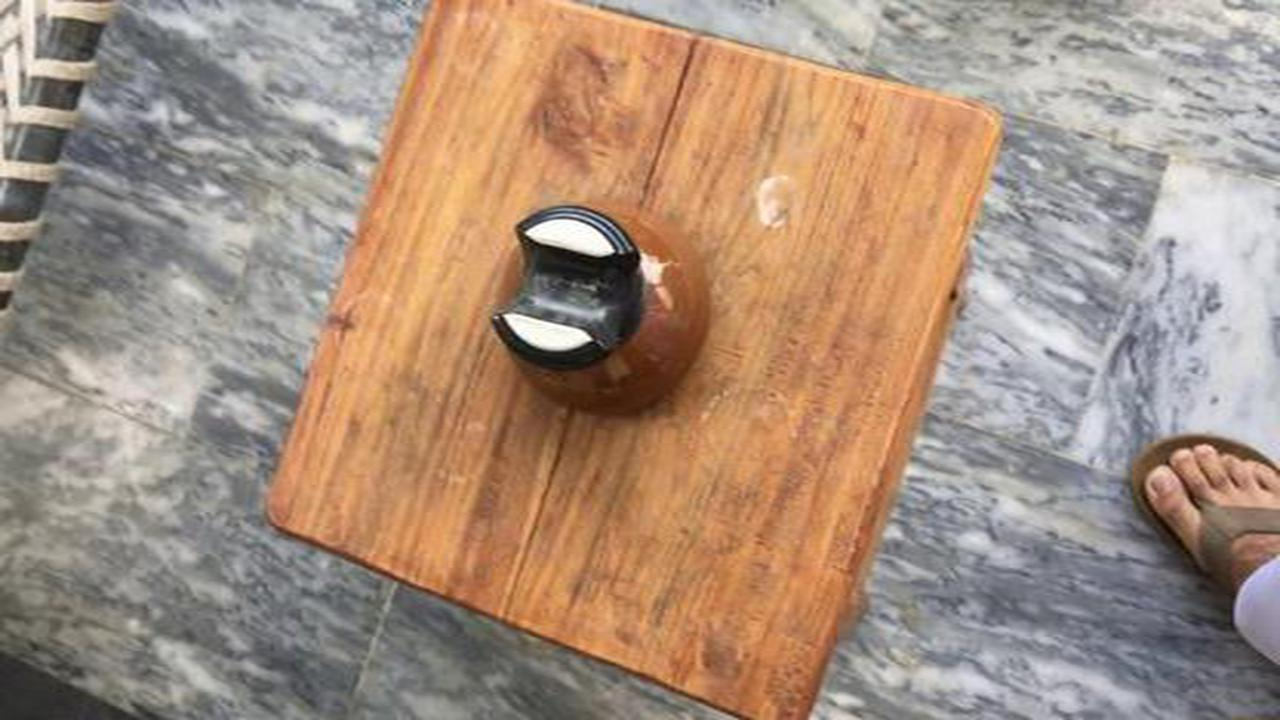insulator_pin: (465, 194, 742, 430)
